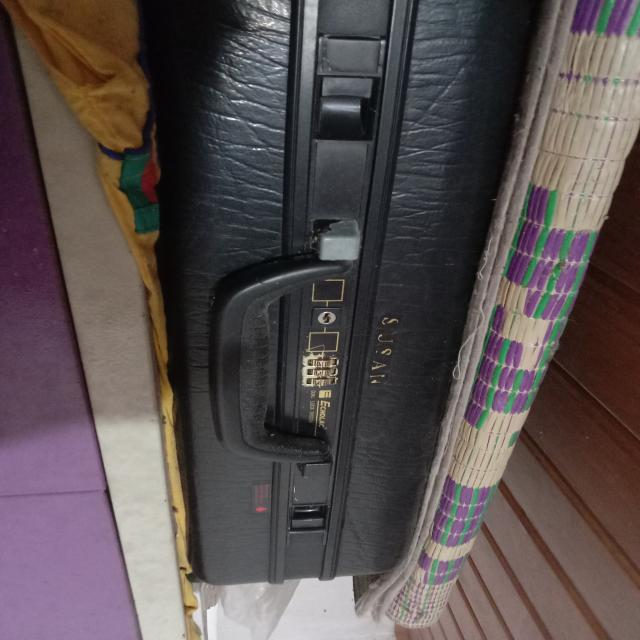luggage: (140, 0, 542, 588)
